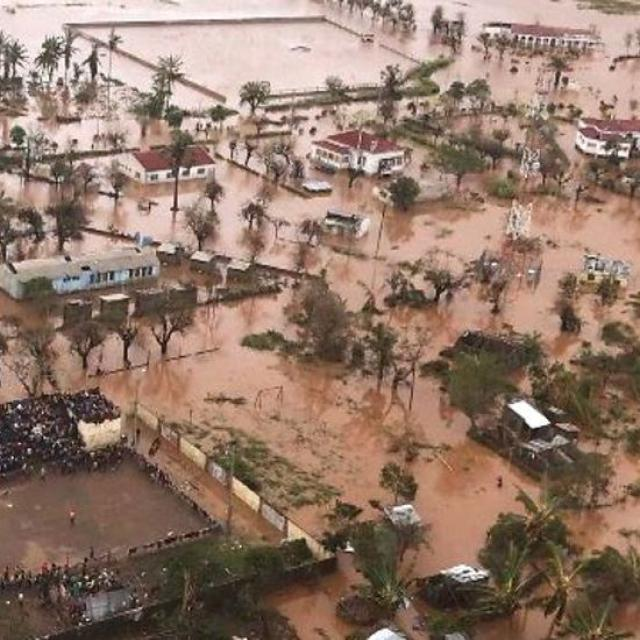flood: (53, 290, 404, 521), (0, 0, 640, 117), (259, 173, 510, 310), (441, 191, 640, 356), (403, 379, 541, 580), (377, 280, 586, 360), (268, 554, 380, 640), (69, 195, 184, 258), (90, 182, 190, 246), (209, 159, 266, 258), (318, 248, 391, 311), (568, 493, 640, 552), (469, 611, 551, 640), (0, 175, 52, 208), (112, 52, 153, 90), (611, 447, 640, 492), (172, 82, 219, 109), (0, 354, 20, 400), (618, 605, 640, 640)
house: (0, 247, 160, 302), (502, 398, 582, 461), (316, 132, 412, 182), (122, 147, 218, 186), (575, 118, 640, 168), (509, 24, 598, 56), (316, 210, 376, 242), (388, 501, 429, 544)
